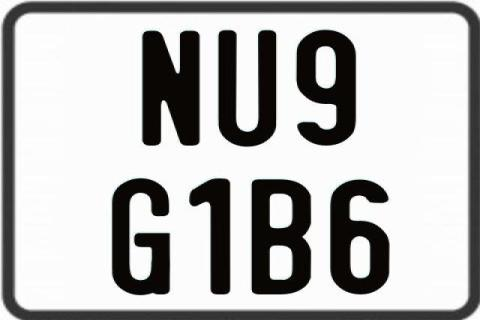0: (294, 29, 357, 149), (328, 180, 388, 298), (187, 176, 231, 292)
B: (252, 178, 315, 298)
G: (112, 177, 174, 297)
N: (140, 29, 199, 145)
U: (218, 31, 278, 150)
